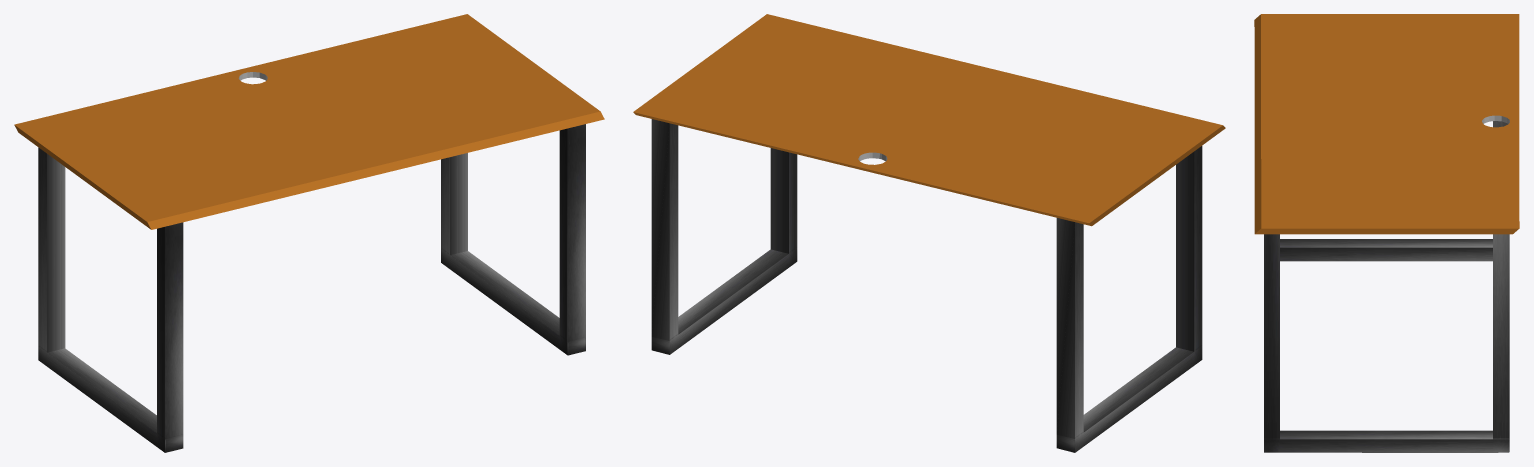
The model's file is mesa con colores.fbx.
The picture shows the model from 3 angles, left to right: view 1: azimuth 30°, elevation 25°; view 2: azimuth 150°, elevation 25°; view 3: azimuth 270°, elevation 25°; orthographic projection. The views are drawn at different scales.
Parts seen in each view (by area): view 1: mesa96; view 2: mesa96; view 3: mesa96.
Boxes of the visible parts, left/top/right/bottom form: mesa96: left=14, top=14, right=604, bottom=452; mesa96: left=633, top=14, right=1225, bottom=452; mesa96: left=1254, top=14, right=1519, bottom=452.
Size of the model in its own units: 126 by 63.27 by 65.87.
Materials: 3 (2 with a texture image).
